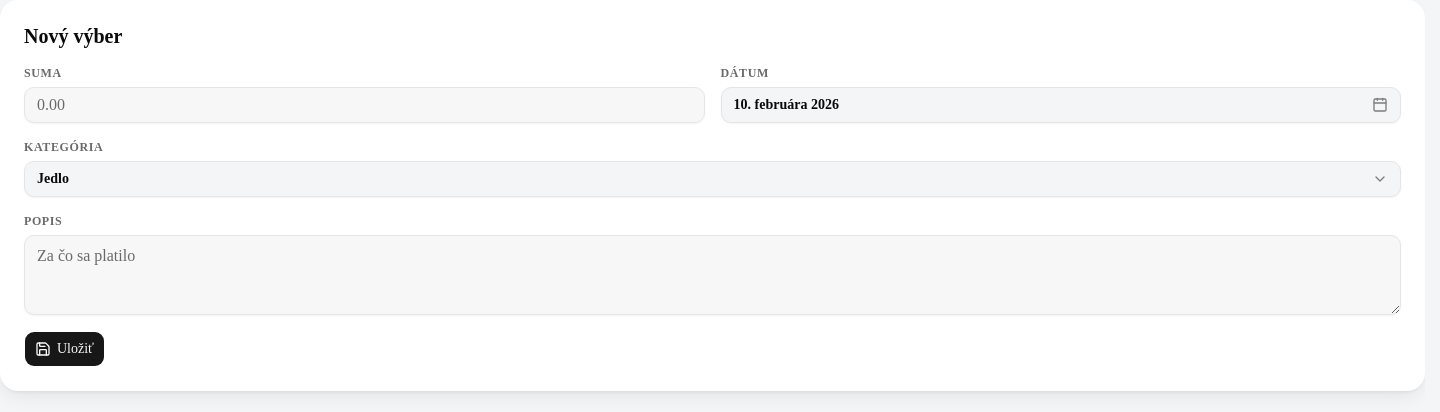
Scenario: submitting › clears the form and refreshes the page on success
In the number field labelled "Suma": (364, 105) [24, 87, 704, 123], type "42.50"
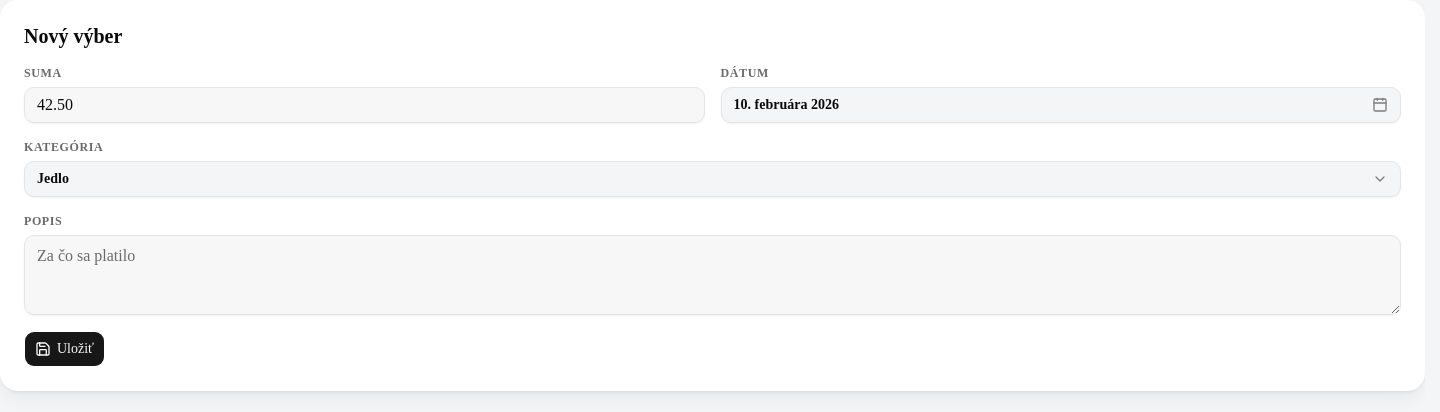
In the text box labelled "Popis": (712, 275) [24, 235, 1401, 315], type "Obedy po zápase"
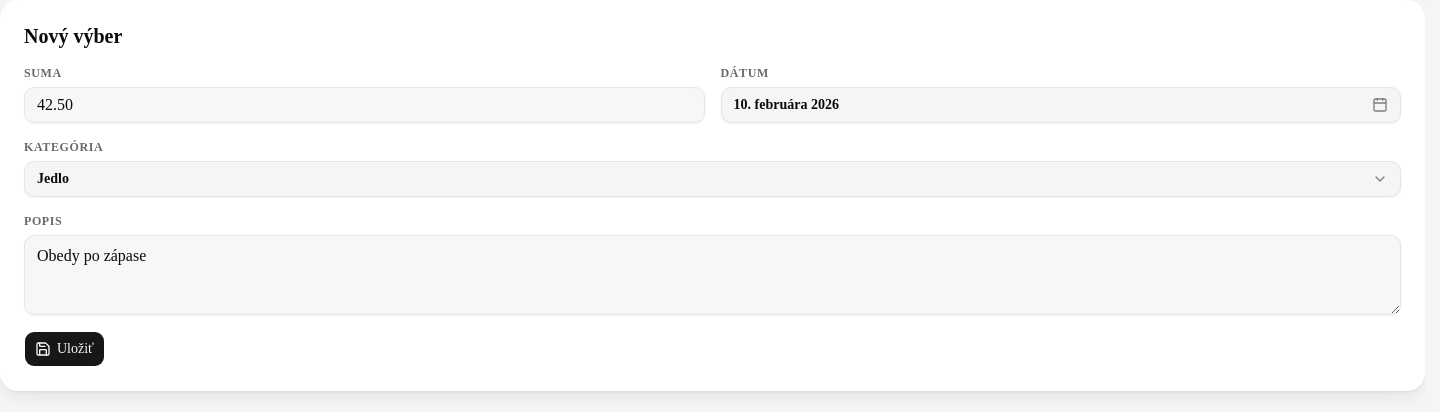
Click the button "Uložiť": (65, 349) [24, 331, 105, 367]
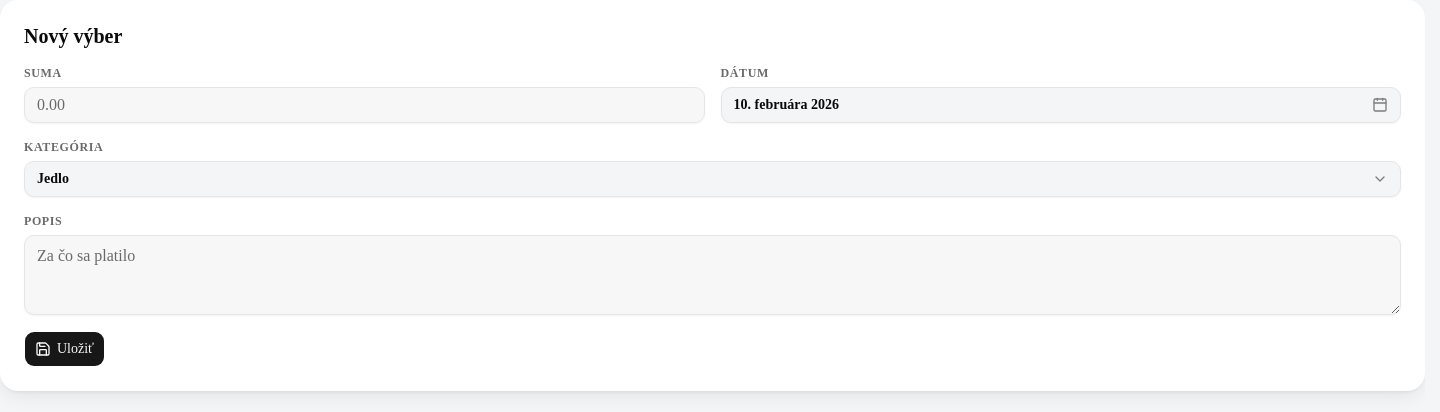
Expected: the number field labelled "Suma" is not empty, [24, 87, 704, 123]
Expected: the text box labelled "Popis" is empty, [24, 235, 1401, 315]
